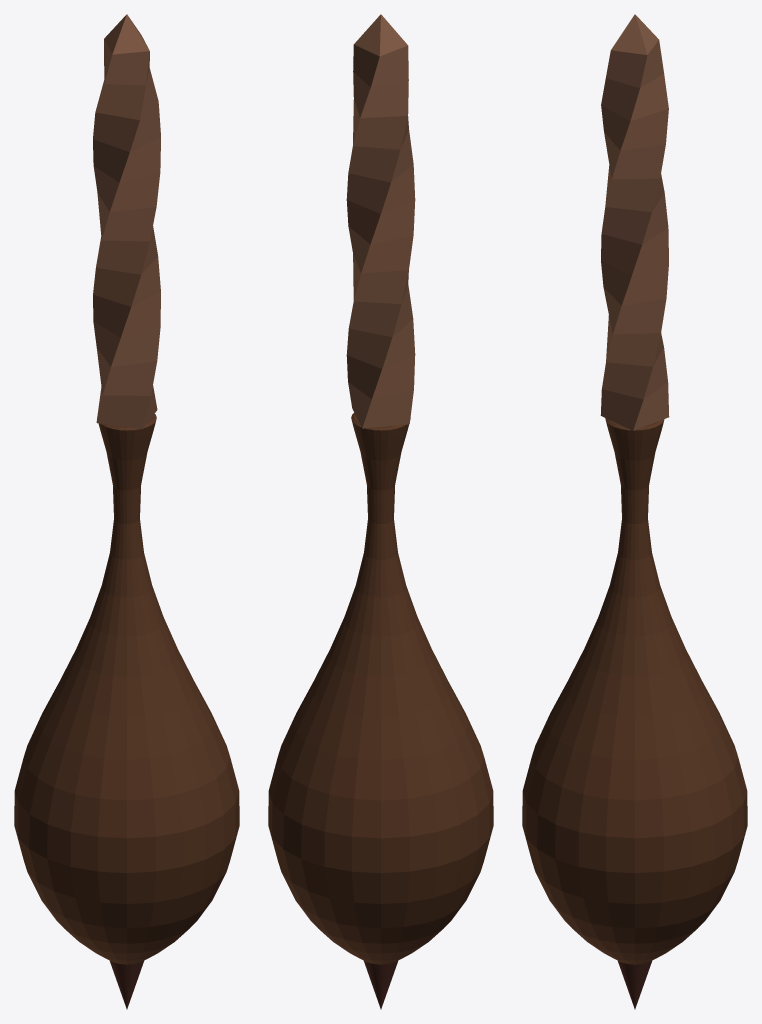
The model's file is Wand 952.glb.
3 views of the same model, side by side, from view 1: azimuth 30°, elevation 25°; view 2: azimuth 150°, elevation 25°; view 3: azimuth 270°, elevation 25° (orthographic).
Parts seen in each view (by area): view 1: GeneratedWand; view 2: GeneratedWand; view 3: GeneratedWand.
Part boxes in pixels (bbox=[...]): GeneratedWand: bbox=[14, 14, 239, 1009]; GeneratedWand: bbox=[268, 14, 493, 1009]; GeneratedWand: bbox=[522, 14, 747, 1009].
Bounding box in the file's own units: 0.1026 × 0.5002 × 0.1026.
